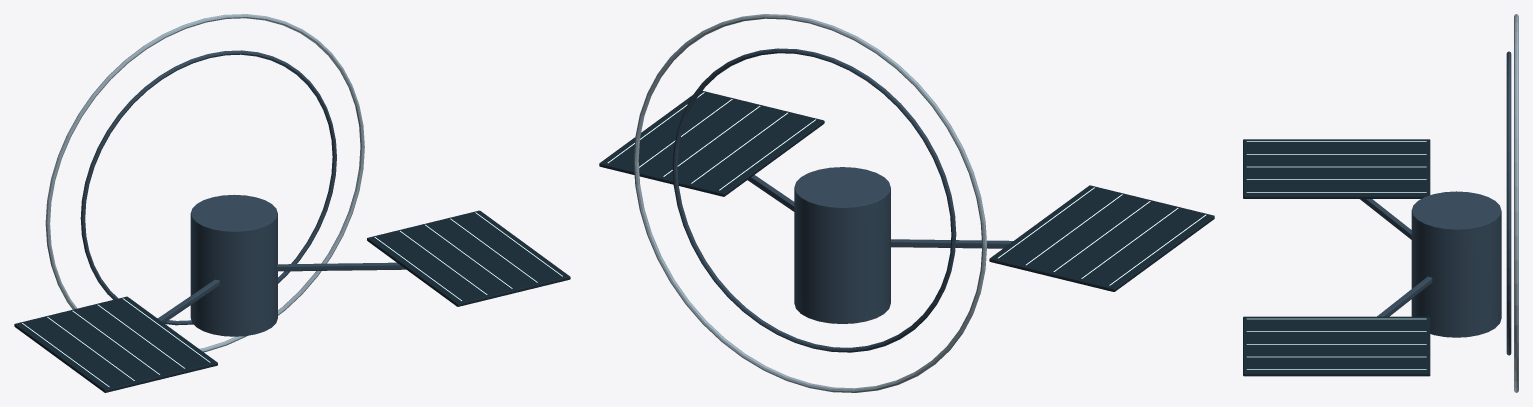
Rendered from orbital-station-v1.glb.
The picture shows the model from 3 angles, left to right: view 1: azimuth 30°, elevation 25°; view 2: azimuth 150°, elevation 25°; view 3: azimuth 270°, elevation 25°; orthographic projection. The views are drawn at different scales.
Parts seen in each view (by area): view 1: orbital-station recess, orbital-station alloy, orbital-station trim, orbital-station lighting; view 2: orbital-station recess, orbital-station alloy, orbital-station trim, orbital-station lighting; view 3: orbital-station recess, orbital-station alloy, orbital-station lighting, orbital-station trim.
Part boxes in pixels (x1=…): orbital-station recess: x1=14, y1=210, x2=570, y2=392; orbital-station alloy: x1=80, y1=50, x2=405, y2=336; orbital-station trim: x1=45, y1=14, x2=364, y2=352; orbital-station lighting: x1=22, y1=212, x2=562, y2=386; orbital-station recess: x1=599, y1=90, x2=1214, y2=291; orbital-station alloy: x1=672, y1=48, x2=1012, y2=352; orbital-station trim: x1=633, y1=14, x2=986, y2=392; orbital-station lighting: x1=607, y1=92, x2=1206, y2=285; orbital-station recess: x1=1243, y1=139, x2=1430, y2=376; orbital-station alloy: x1=1360, y1=51, x2=1511, y2=355; orbital-station lighting: x1=1246, y1=141, x2=1426, y2=369; orbital-station trim: x1=1514, y1=14, x2=1518, y2=392.
Size of the model in its own units: 74 by 50.64 by 36.82.
